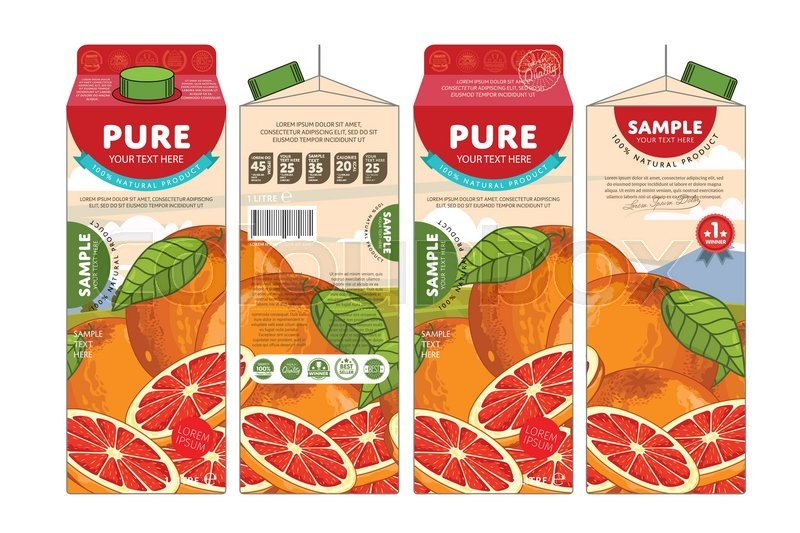carton: (414, 41, 575, 501), (588, 39, 750, 496), (243, 41, 399, 496), (73, 43, 223, 496)
